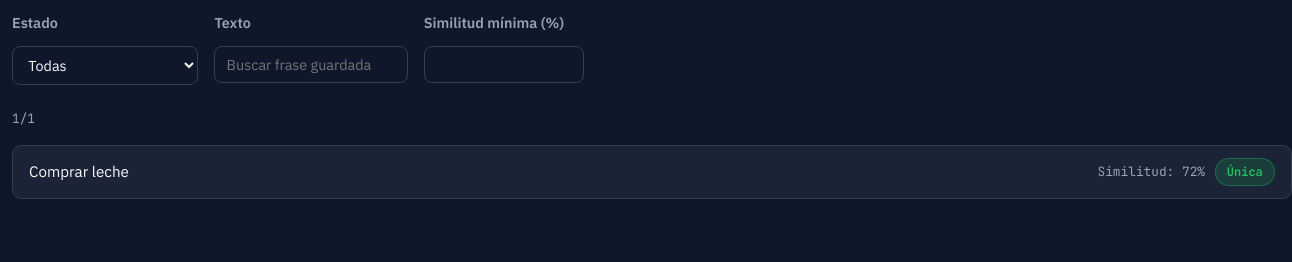
PhraseList › compare with the matched phrase › shows an inline error when the compare fetch fails
Click the button named "Comparar" at (1151, 172), box [1098,162,1205,181]
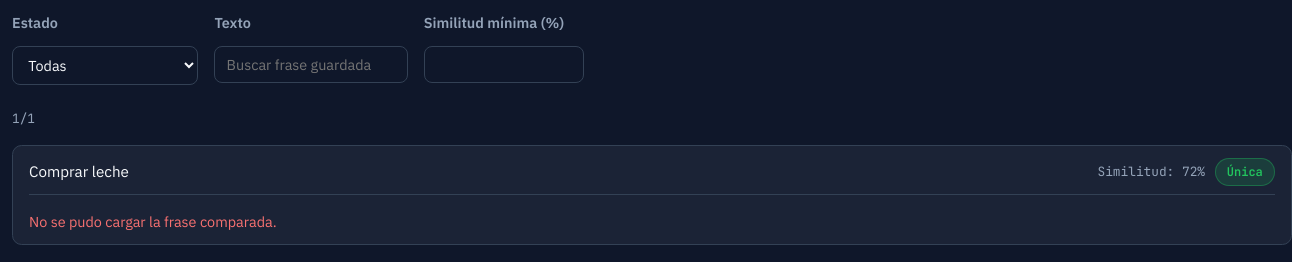
Expected: the text "No se pudo cargar la frase comparada." is shown, [29,212,277,231]
